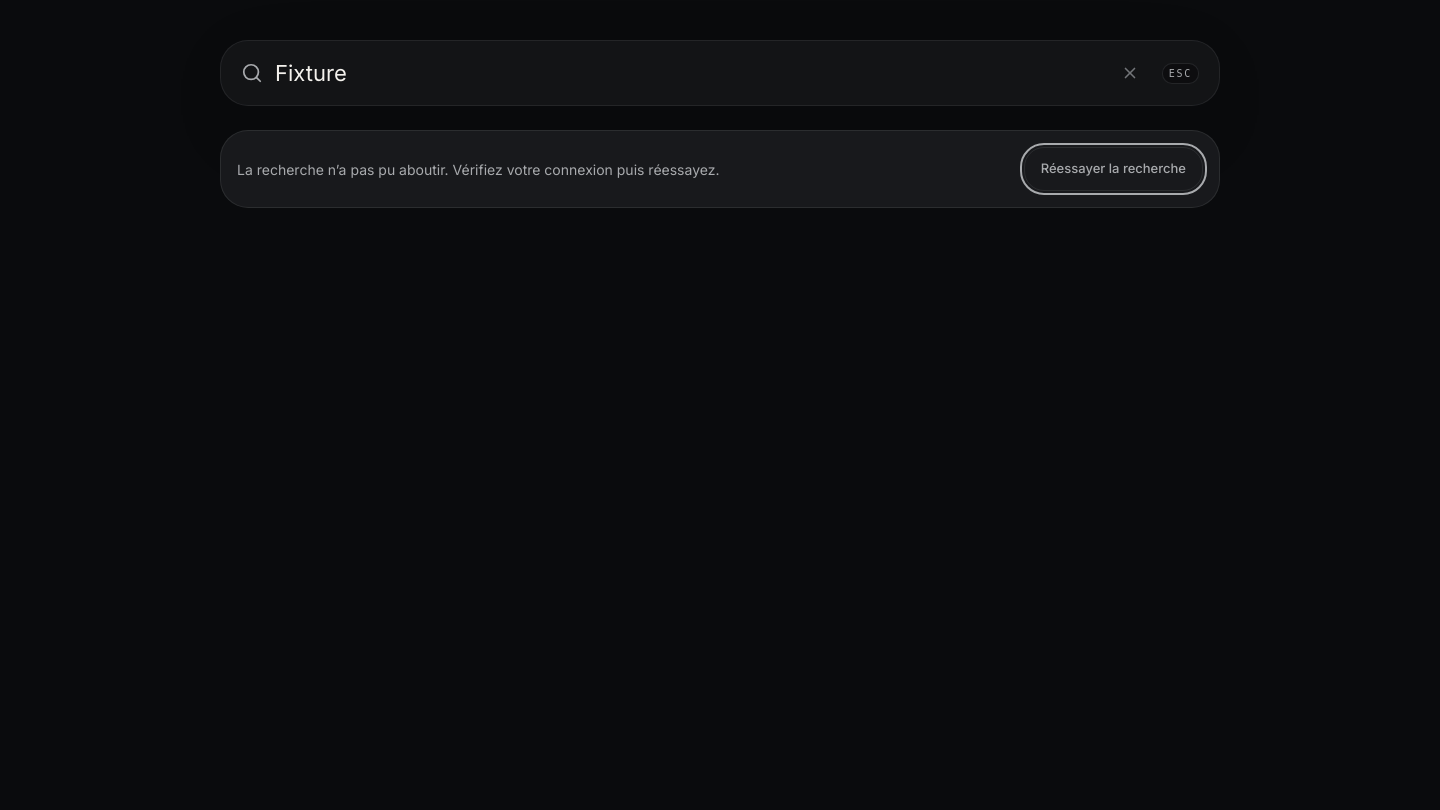
Test: announces total failure and retries the same query with keyboard focus restored
Expected: the message "La recherche n’a pas pu aboutir. Vérifiez votre connexion puis réessayez." is shown, [237, 160, 720, 178]
Step 1. Click the button "Réessayer la recherche" → click(1113, 169), box [1024, 147, 1203, 191]
Wait 180 ms
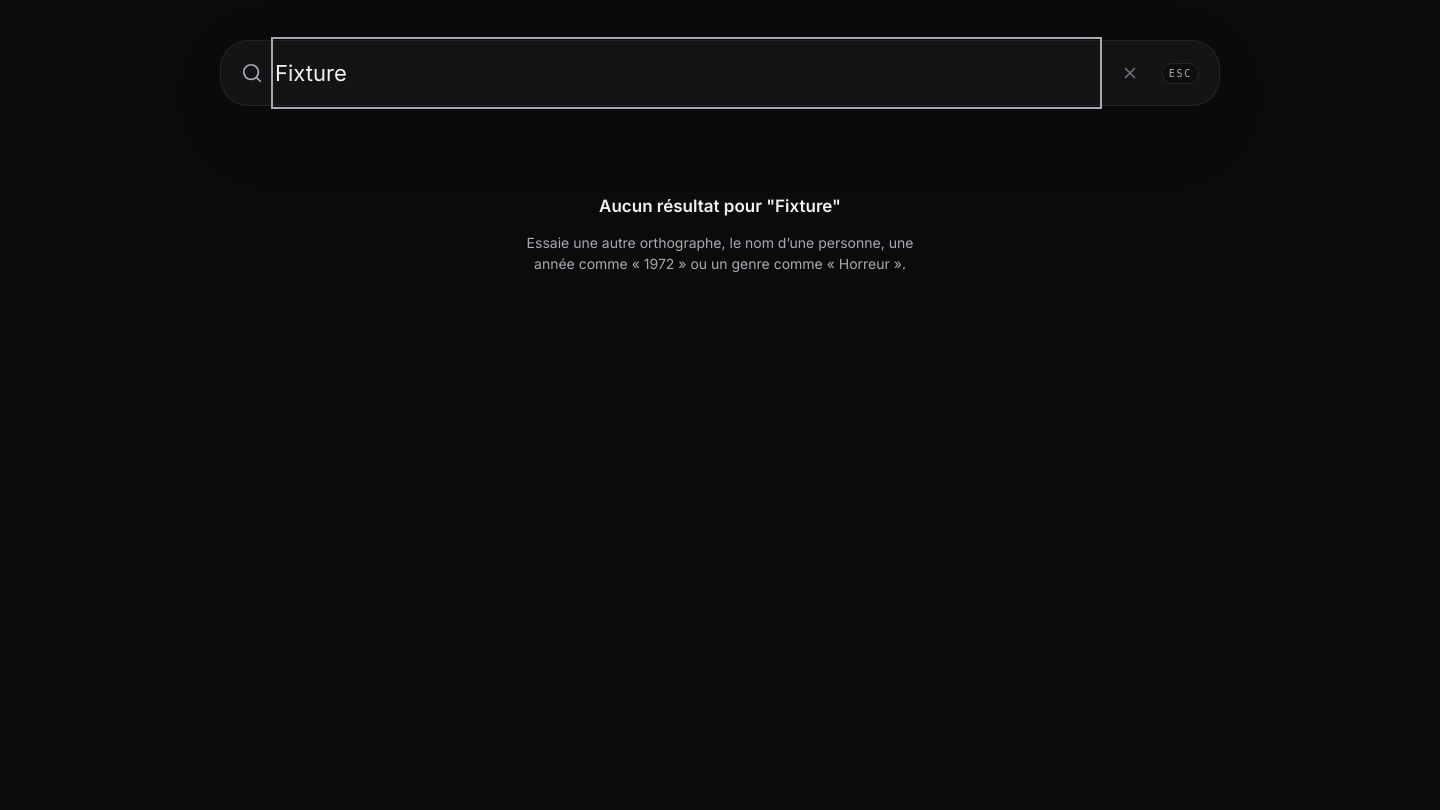
Expected: the message "La recherche n’a pas pu aboutir. Vérifiez votre connexion puis réessayez." is gone
